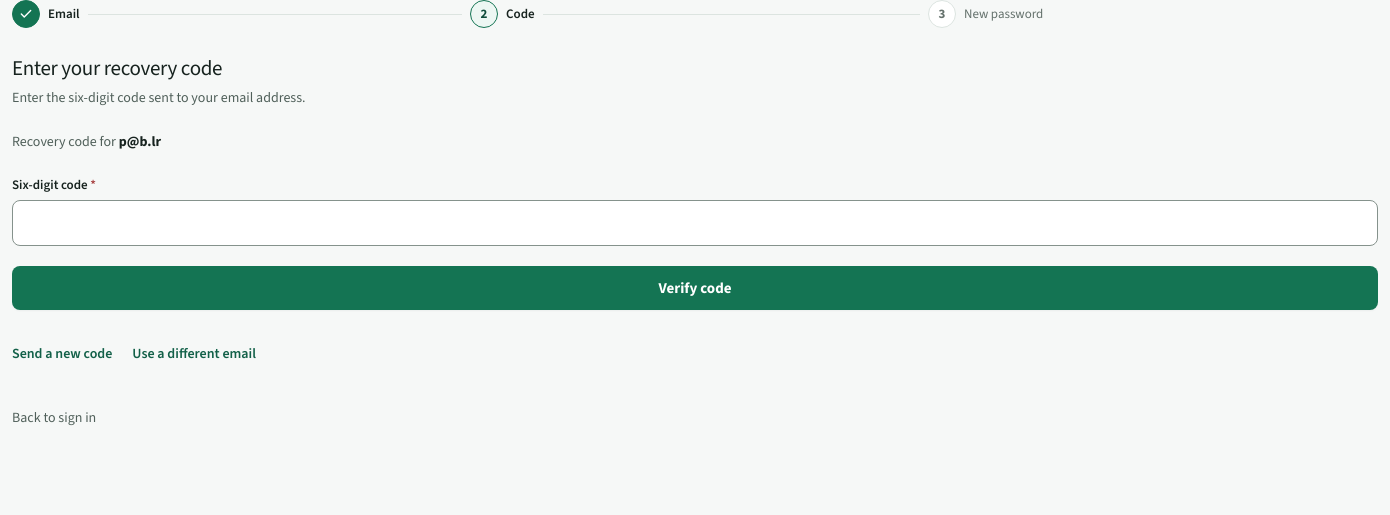
ResetPasswordPanel › shows an invalid-code error returned by MedNet
Type "000000" into the field labelled "Six-digit code *" at (695, 223), box [12, 200, 1378, 246]
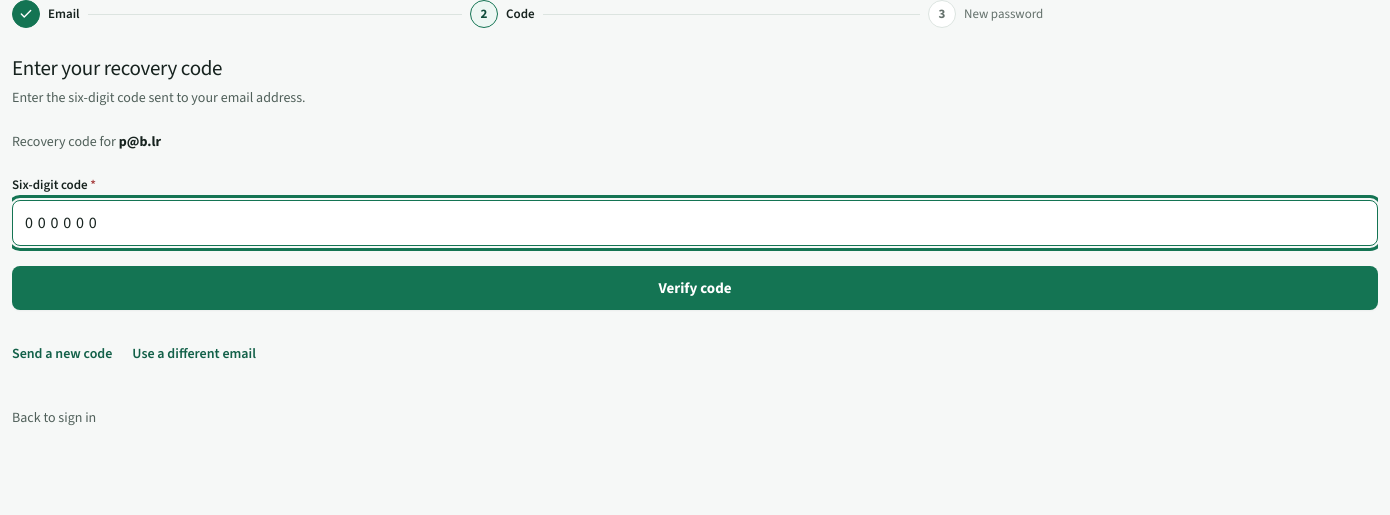
Click the button "Verify code" at (695, 288), box [12, 266, 1378, 310]
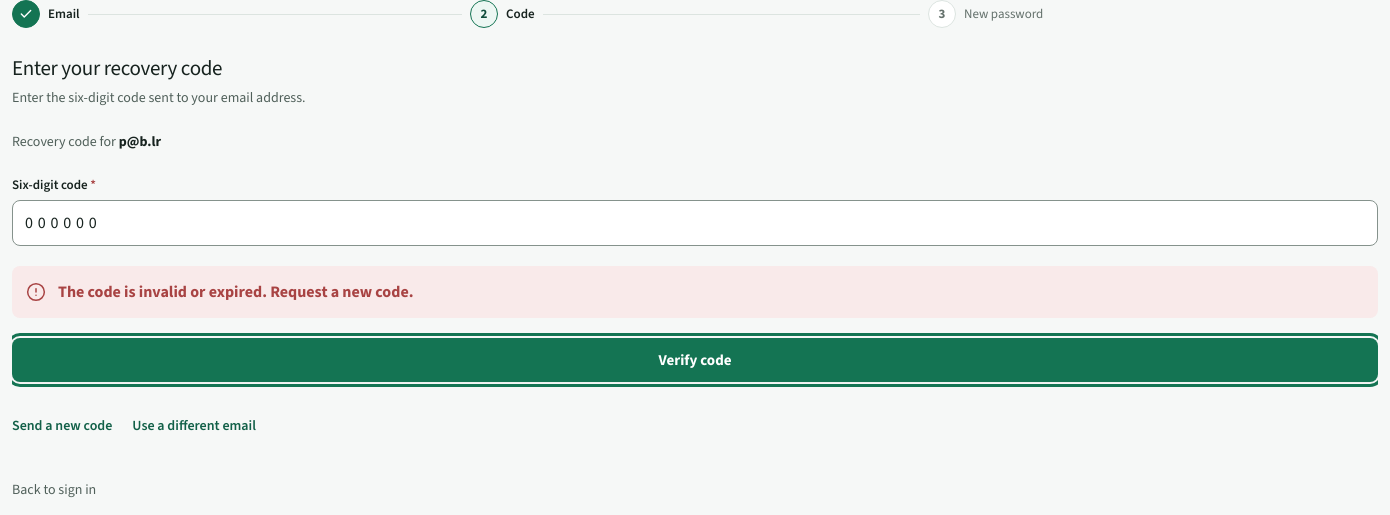
Check: the message reads "The code is invalid or expired. Request a new code.", box [58, 281, 414, 302]
